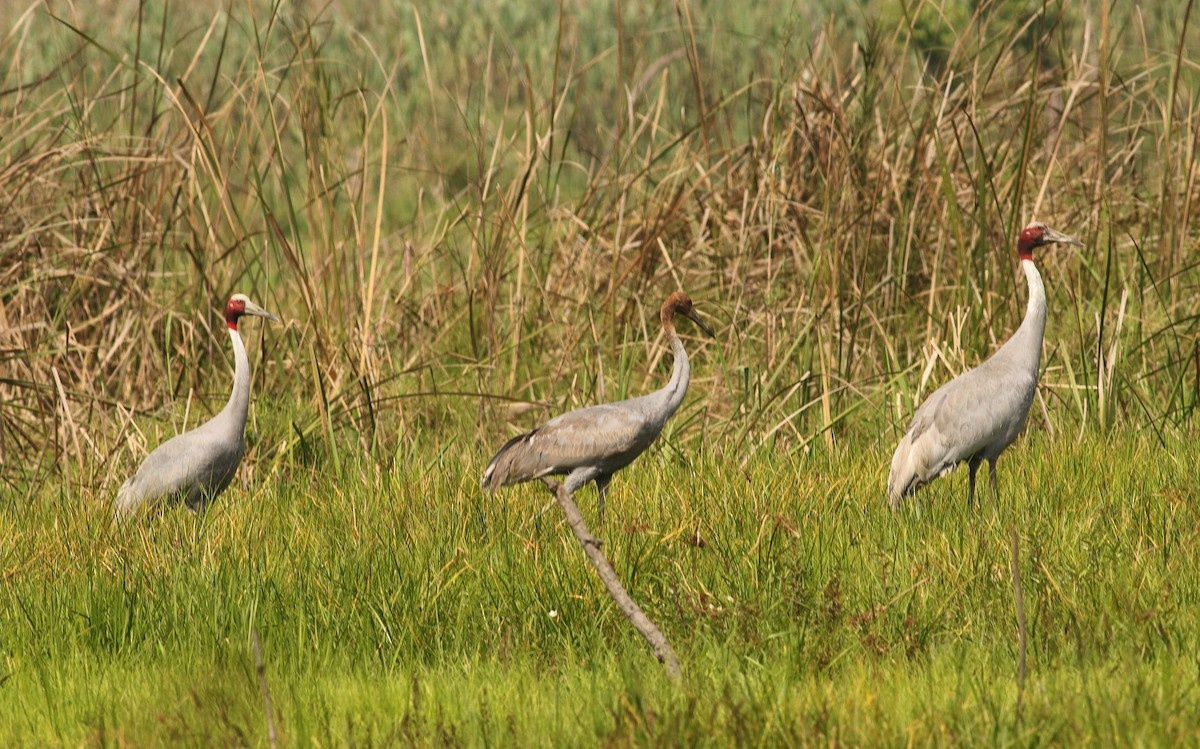crane: (887, 206, 1090, 530), (482, 278, 730, 529), (135, 284, 279, 535)
